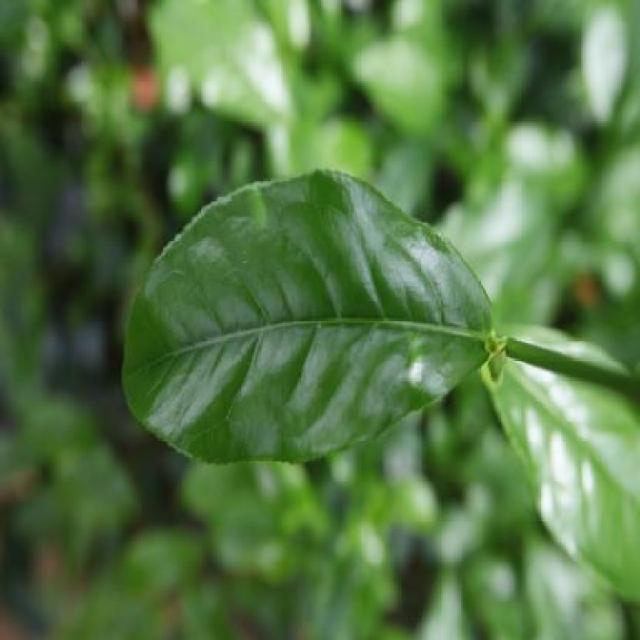Tea leaf: (117, 169, 508, 462)
